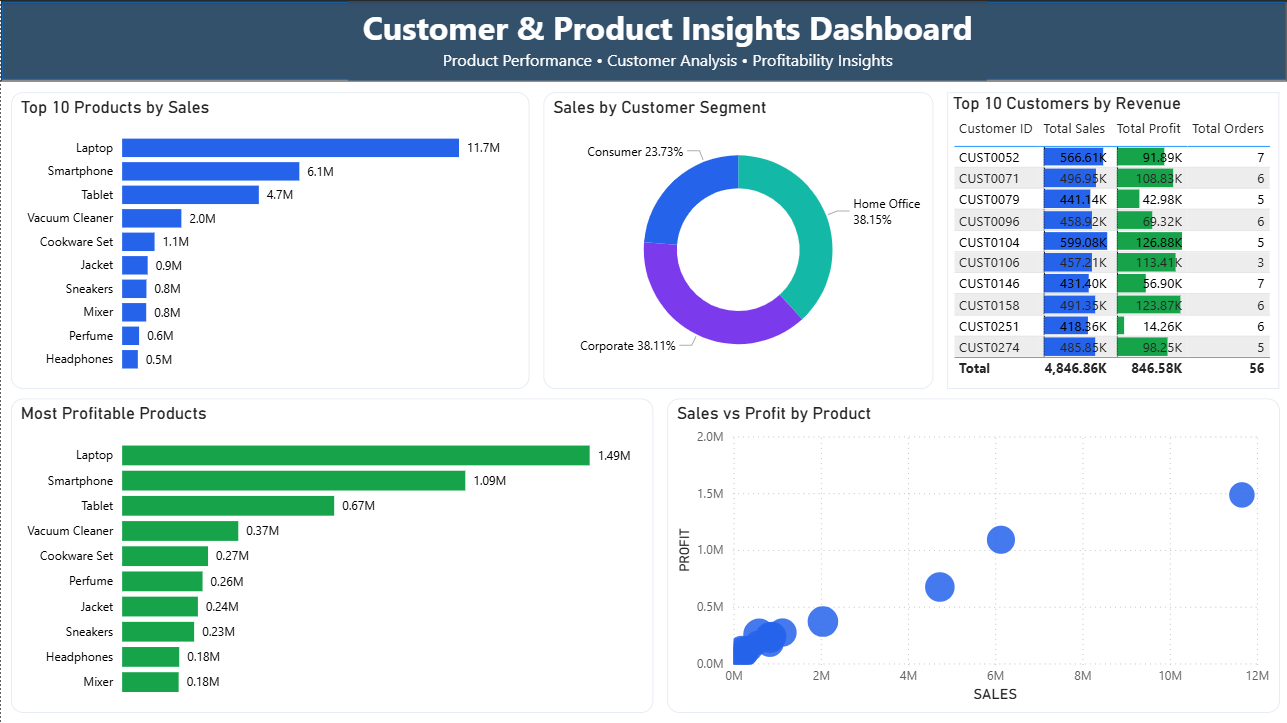

Layout of this report page (visuals, bound fields, positions):
{"tool":"powerbi","page":{"name":"Customer & Product Insights","canvas":[1280,720],"ordinal":1},"visuals":[{"type":"barChart","title":"Top 10 Products by Sales","fields":{"Category":["Fact_Sales.Product Name"],"Y":["Measures (3).Total Sales"]},"box":[9.6,90.6,516,295],"z":0},{"type":"clusteredBarChart","title":"Most Profitable Products","fields":{"Category":["Fact_Sales.Product Name"],"Y":["Measures (3).Total Profit"]},"box":[9.6,395.2,639.5,312.9],"z":1000},{"type":"donutChart","title":"Sales by Customer Segment","fields":{"Category":["Fact_Sales.Customer Segment"],"Y":["Measures (3).Total Sales"]},"box":[539.3,90.6,388.3,295],"z":2000},{"type":"scatterChart","title":"Sales vs Profit by Product","fields":{"X":["Measures (3).Total Sales"],"Y":["Measures (3).Total Profit"],"Size":["Sum(Fact_Sales.Quantity Sold)"],"Category":["Fact_Sales.Product Name"]},"box":[662.8,395.2,609.3,312.9],"z":3000},{"type":"tableEx","title":"Top 10 Customers by Revenue","fields":{"Values":["Fact_Sales.Customer ID","Measures (3).Total Sales","Measures (3).Total Profit","Measures (3).Total Orders"]},"box":[941.3,90.6,330.7,295],"z":4000},{"type":"shape","title":"E-Commerce Sales Insights Dashboard","box":[0,0,1280,79.6],"z":9000},{"type":"textbox","box":[345.8,0,635.3,79.6],"z":10000}]}

Visuals, with their boxes in screenshot pixels (x1, y1, x2, y2), scaled from the page's 1280x720 canvas onto the 1287x723 screenshot:
"Top 10 Products by Sales" barChart: l=10, t=91, r=528, b=387
"Most Profitable Products" clusteredBarChart: l=10, t=397, r=653, b=711
"Sales by Customer Segment" donutChart: l=542, t=91, r=933, b=387
"Sales vs Profit by Product" scatterChart: l=666, t=397, r=1279, b=711
"Top 10 Customers by Revenue" tableEx: l=946, t=91, r=1279, b=387
"E-Commerce Sales Insights Dashboard" shape: l=0, t=0, r=1286, b=80
textbox: l=348, t=0, r=986, b=80
